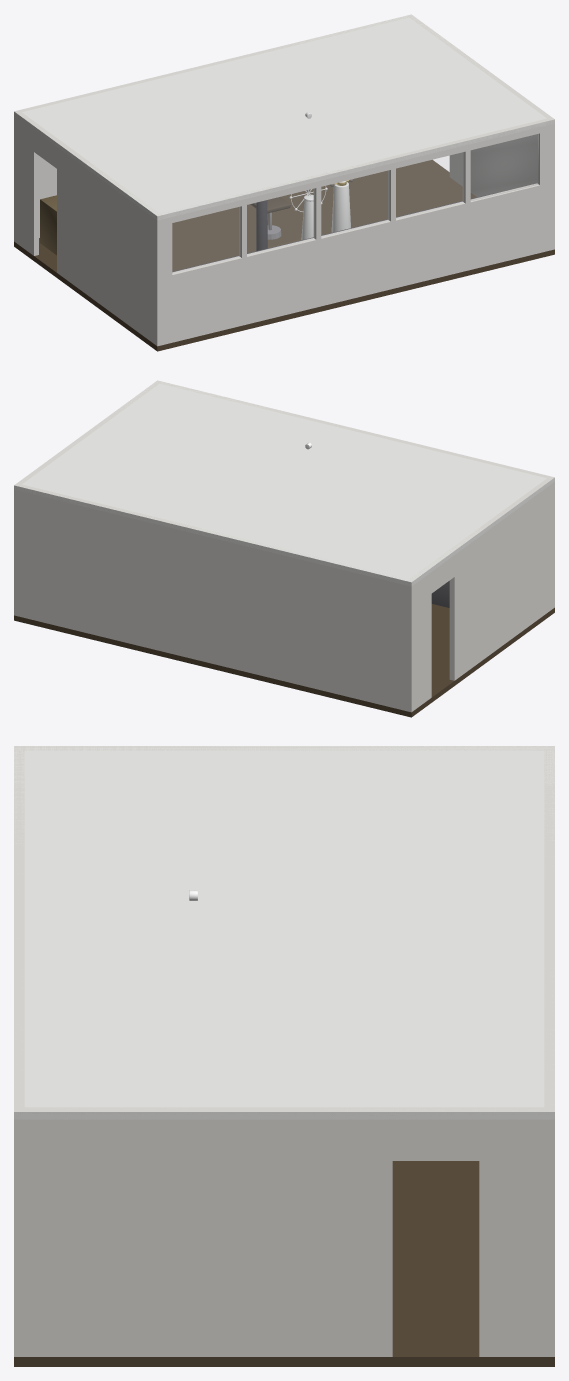
The model's file is Bridge_FullScene_v1.0.glb.
The picture shows the model from 3 angles, top to bottom: view 1: azimuth 30°, elevation 25°; view 2: azimuth 150°, elevation 25°; view 3: azimuth 270°, elevation 25°; orthographic projection. The views are drawn at different scales.
Parts seen in each view (by area): view 1: cabin_ceiling, wall_front, wall_left, cabin_floor, wall_right, window_glass_1, window_glass_3, window_glass_2, window_glass_5, window_glass_4, wall_back, chart_table (+3 smaller); view 2: cabin_ceiling, wall_back, wall_left, cabin_floor, wall_front, wall_right; view 3: cabin_ceiling, wall_right, cabin_floor, wall_back, wall_front, wall_left.
Part boxes in pixels (x1,y1,x2,y2): cabin_ceiling: (22,14,554,220); wall_front: (154,117,554,346); wall_left: (14,110,162,345); cabin_floor: (14,159,554,351); wall_right: (407,15,551,197); window_glass_1: (172,207,240,273); window_glass_3: (321,170,389,236); window_glass_2: (247,188,314,255); window_glass_5: (471,134,538,200); window_glass_4: (396,152,463,218); wall_back: (19,14,413,237); chart_table: (40,195,56,255); cabin_ceiling: (14,381,554,586); wall_back: (14,483,414,712); wall_left: (407,476,554,711); cabin_floor: (14,604,554,717); wall_front: (155,380,554,594); wall_right: (15,380,161,616); cabin_ceiling: (14,746,554,1119); wall_right: (14,1107,554,1356); cabin_floor: (14,1161,554,1366); wall_back: (544,746,554,1356); wall_front: (14,746,24,1356); wall_left: (14,746,554,750).
Bounding box in the file's own units: 8 × 2.99 × 5.
